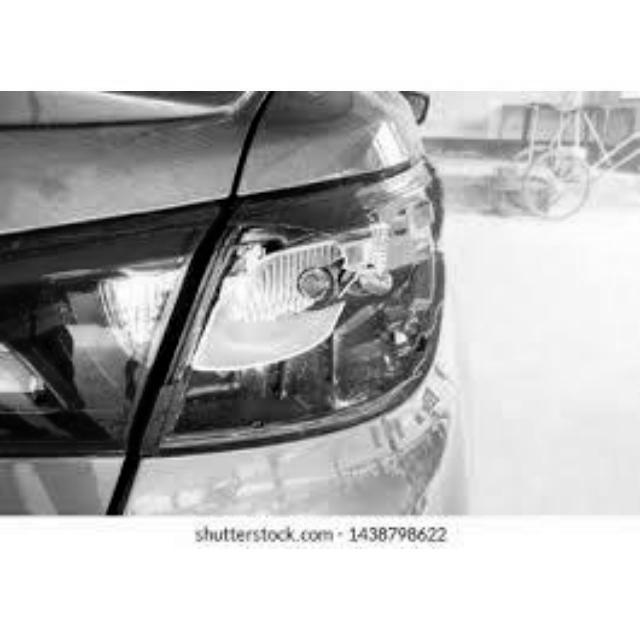Taillight-Damage: (8, 159, 445, 431)
